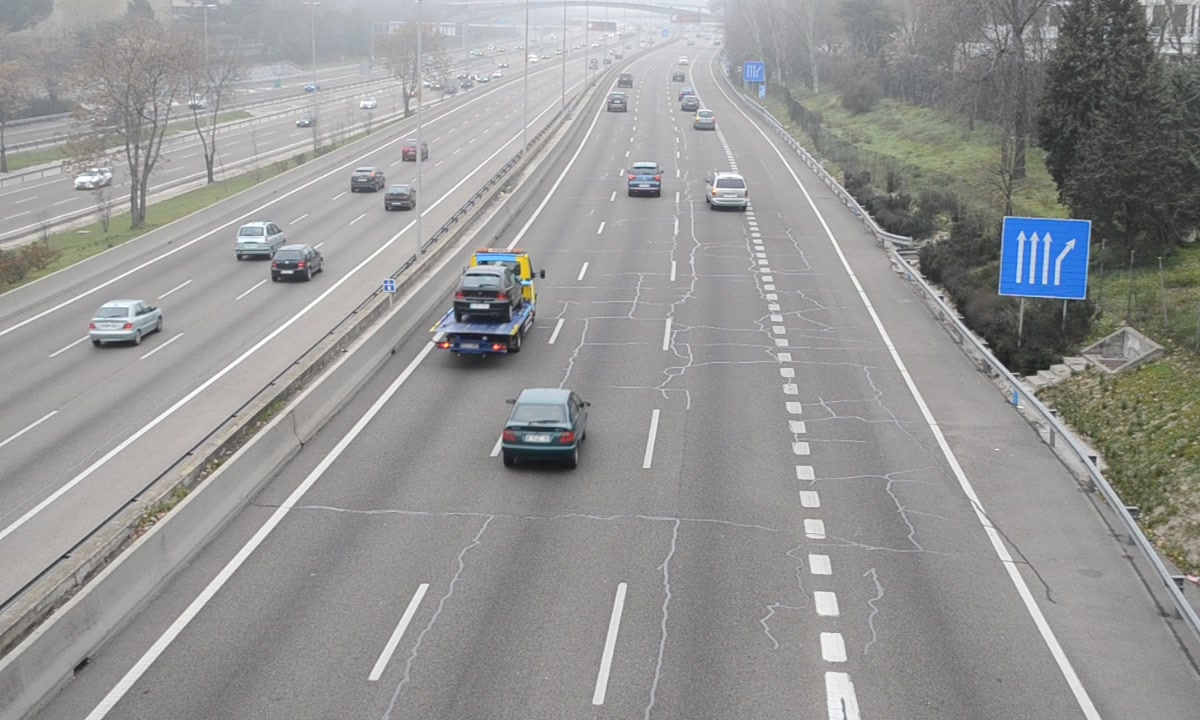car: (504, 389, 584, 456), (706, 172, 750, 211), (626, 161, 662, 195), (693, 106, 716, 131), (606, 92, 626, 112)
small-truck: (431, 248, 536, 359)
